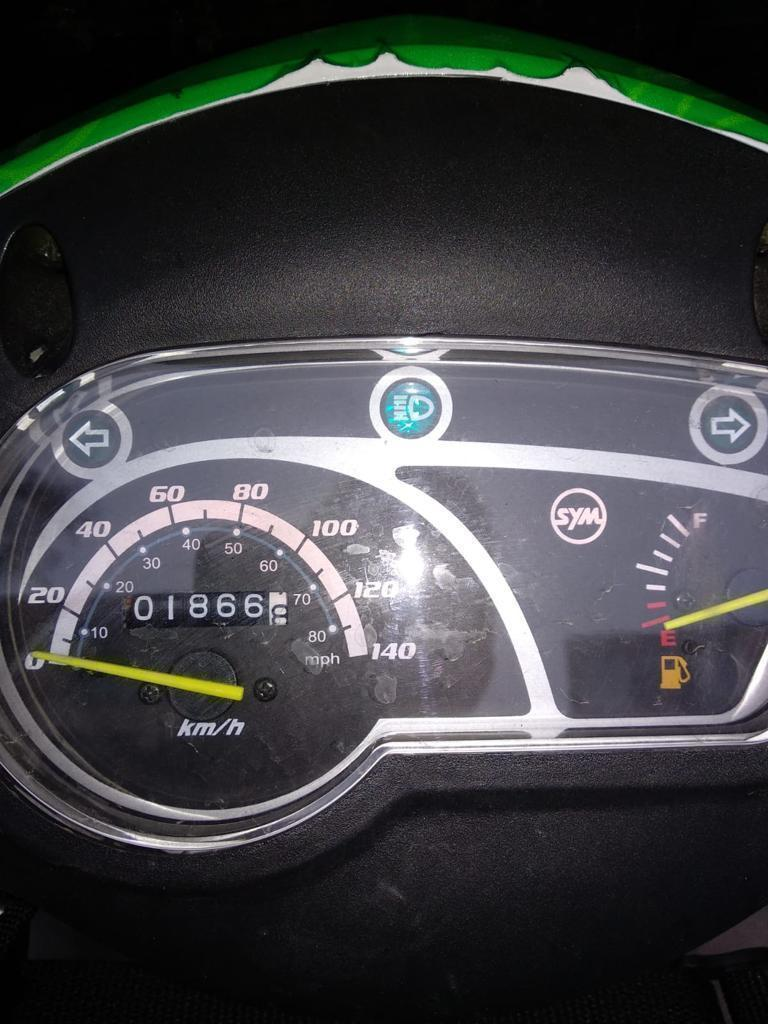0: (132, 595, 156, 623)
1: (164, 593, 177, 626)
6: (242, 591, 265, 620), (216, 592, 237, 621)
8: (187, 592, 209, 621), (269, 601, 290, 630)
odometer: (128, 589, 292, 635)
